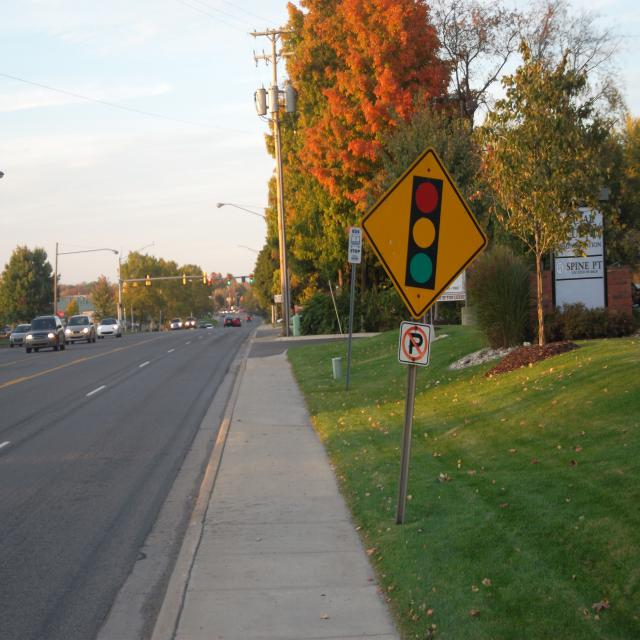regulatory: (400, 321, 429, 368)
warning: (358, 145, 488, 316)
